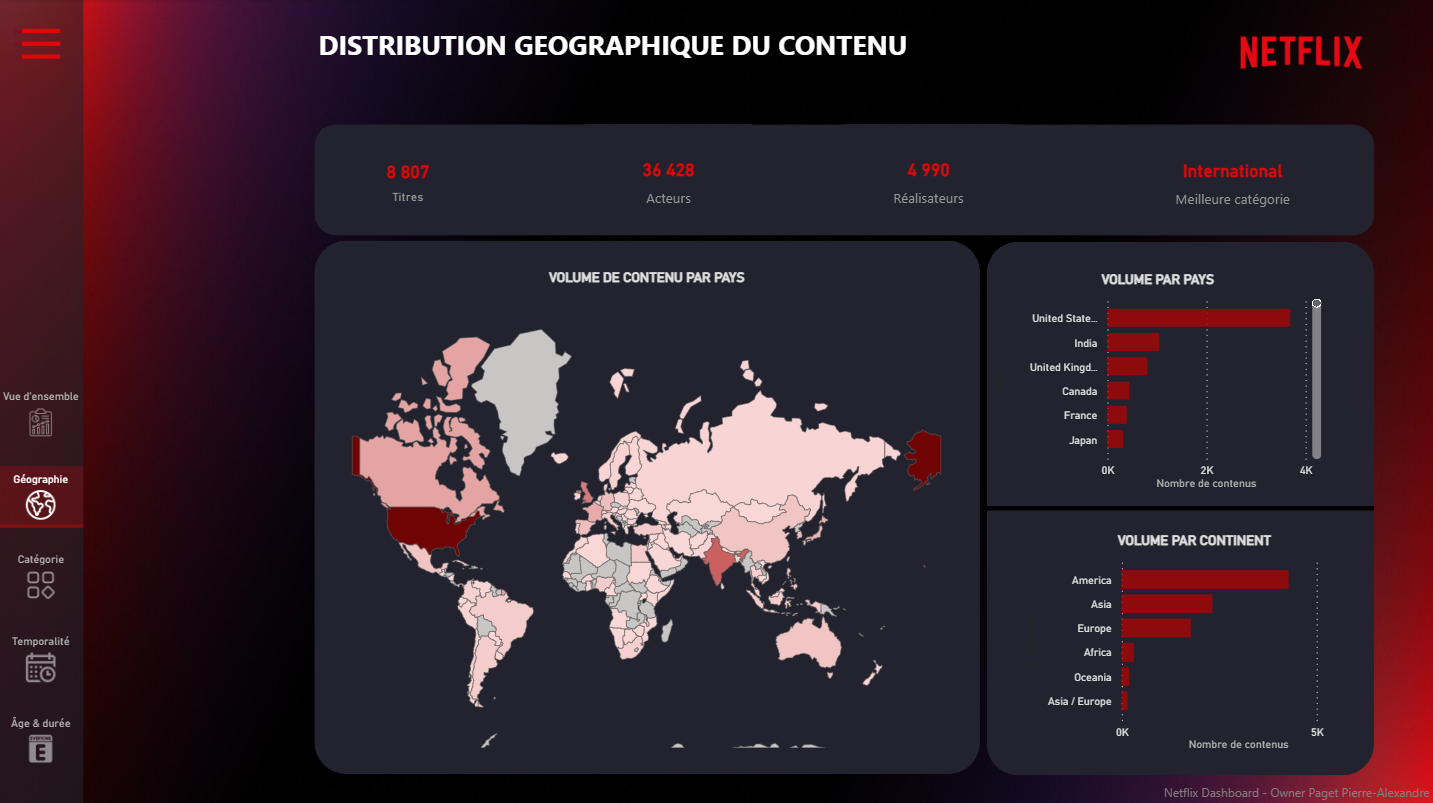

What the dashboard file says about the page in this screenshot:
{"tool":"powerbi","page":{"name":"Géographie","canvas":[1280,720],"ordinal":1},"visuals":[{"type":"shape","title":"Forme - pages","box":[0,0,76,720.7],"z":0,"group":"g1"},{"type":"card","title":"NOMBRE DE FLMS","fields":{"Values":["Mesures.best_contenu_by_category"]},"box":[984.2,114.5,230.7,95.2],"z":0,"group":"g2"},{"type":"shape","box":[880.5,217.2,344.9,475.3],"z":0},{"type":"image","title":"Image - menu","box":[15.2,15.7,45.7,50],"z":1000,"group":"g1"},{"type":"group","id":"g1","title":"Groupe de page","box":[0,0,76.2,720.7],"z":2000,"group":"g3"},{"type":"shape","box":[282,216.4,593,475.3],"z":2000},{"type":"pageNavigator","box":[0,344.1,76.2,351],"z":2000,"group":"g1"},{"type":"shapeMap","title":"VOLUME DE CONTENU PAR PAYS","fields":{"Category":["dim_geography.country"],"Value":["Count(fact_titles.show_id)"]},"box":[282,237.6,592.3,435.4],"z":3000},{"type":"image","box":[8.9,16.8,45.2,49.7],"z":5000},{"type":"shape","box":[281.1,112.6,944.3,99.3],"z":6000},{"type":"textbox","box":[1013.5,692.5,266.9,27.5],"z":7000},{"type":"textbox","box":[280.9,20,875.5,41.8],"z":8000},{"type":"clusteredBarChart","title":"VOLUME PAR PAYS","fields":{"Category":["dim_geography.country"],"Y":["CountNonNull(fact_titles.show_id)"]},"box":[887.6,227.9,311.2,223.4],"z":9000},{"type":"card","title":"NOMBRE DE FLMS","fields":{"Values":["Mesures.nb_contenus"]},"box":[288,116.2,153,91.3],"z":10000},{"type":"image","box":[1094.2,0,132.7,94.1],"z":11000},{"type":"card","title":"NOMBRE DE FLMS","fields":{"Values":["_mesures.nb_acteurs_interactif"]},"box":[522,112.6,149.9,98.4],"z":12000},{"type":"group","id":"g2","title":"Groupe 2","box":[984.2,114.5,231,94.9],"z":13000},{"type":"clusteredBarChart","title":"VOLUME PAR CONTINENT","fields":{"Category":["Continents.Continent"],"Y":["CountNonNull(fact_titles.show_id)"]},"box":[894.7,461.1,321,223.4],"z":14000},{"type":"card","title":"NOMBRE DE FLMS","fields":{"Values":["Mesures.Nb_Realisateurs_Interactif"]},"box":[753.1,112.6,149.9,98.4],"z":15000},{"type":"group","id":"g3","title":"Groupe MENU","box":[0,0,229.2,720.7],"z":16000},{"type":"shape","title":"Forme - trait noir","box":[880.5,427.4,344.9,54.1],"z":17000},{"type":"image","title":"Vue d''ensemble","box":[0,349.4,76.3,41.7],"z":18000},{"type":"image","title":"Géographie","box":[0,423,76.3,41.7],"z":19000},{"type":"image","title":"Catégorie","box":[0,494.8,76.3,41.7],"z":20000},{"type":"image","title":"Temporalité","box":[0,567.5,76.3,41.7],"z":21000},{"type":"image","title":"Âge & durée","box":[0,640.2,76.3,41.7],"z":22000}]}

Visuals, with their boxes in screenshot pixels (x1, y1, x2, y2), scaled from the page's 1280x720 canvas onto the 1433x803 screenshot:
"Forme - pages" shape: 0 0 85 802
"NOMBRE DE FLMS" card: 1102 128 1360 234
shape: 986 242 1372 772
"Image - menu" image: 17 18 68 73
"Groupe de page" group: 0 0 85 802
shape: 316 241 980 771
pageNavigator: 0 384 85 775
"VOLUME DE CONTENU PAR PAYS" shapeMap: 316 265 979 751
image: 10 19 61 74
shape: 315 126 1372 236
textbox: 1135 772 1432 802
textbox: 314 22 1295 69
"VOLUME PAR PAYS" clusteredBarChart: 994 254 1342 503
"NOMBRE DE FLMS" card: 322 130 494 231
image: 1225 0 1374 105
"NOMBRE DE FLMS" card: 584 126 752 235
"Groupe 2" group: 1102 128 1360 234
"VOLUME PAR CONTINENT" clusteredBarChart: 1002 514 1361 763
"NOMBRE DE FLMS" card: 843 126 1011 235
"Groupe MENU" group: 0 0 257 802
"Forme - trait noir" shape: 986 477 1372 537
"Vue d''ensemble" image: 0 390 85 436
"Géographie" image: 0 472 85 518
"Catégorie" image: 0 552 85 598
"Temporalité" image: 0 633 85 679
"Âge & durée" image: 0 714 85 761
